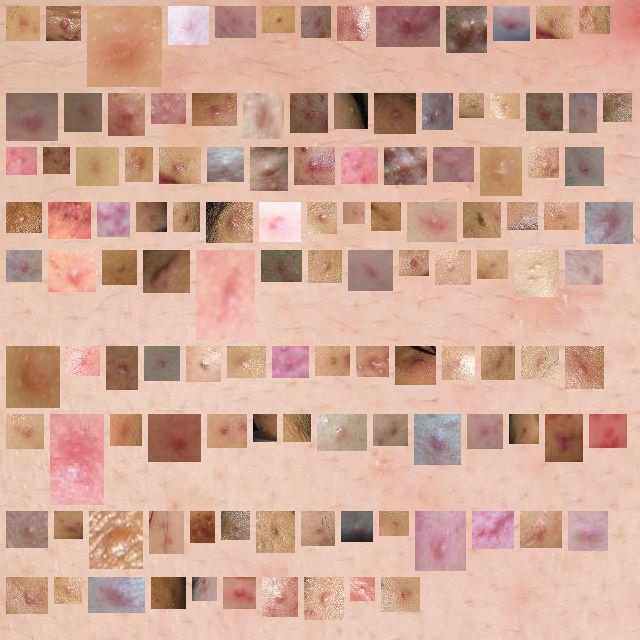papule: (95, 14, 154, 79), (204, 258, 247, 332), (58, 422, 96, 497), (14, 354, 52, 400), (97, 519, 135, 561), (423, 519, 458, 563), (384, 14, 432, 39), (156, 422, 193, 454), (14, 101, 50, 133), (422, 422, 453, 457), (522, 258, 551, 289), (488, 155, 514, 188), (151, 258, 182, 285), (593, 210, 625, 236), (56, 258, 88, 284), (96, 585, 137, 605), (415, 210, 449, 234), (454, 14, 479, 45), (214, 210, 245, 235), (251, 101, 276, 131), (356, 258, 385, 283), (325, 422, 359, 443), (553, 422, 575, 454), (382, 101, 408, 126), (312, 585, 336, 612), (267, 210, 293, 234), (84, 155, 111, 178), (573, 354, 596, 381), (258, 155, 280, 183), (264, 519, 287, 545), (392, 155, 419, 177), (576, 519, 600, 543), (176, 14, 201, 37), (403, 354, 428, 377), (480, 519, 506, 541), (116, 101, 137, 128), (56, 210, 83, 231), (302, 155, 327, 177), (167, 155, 193, 176), (14, 519, 40, 540), (528, 519, 554, 540), (14, 585, 40, 606), (573, 155, 596, 178), (298, 101, 320, 125), (157, 519, 176, 546), (72, 101, 94, 124), (200, 101, 229, 118), (270, 585, 290, 609), (441, 155, 466, 174), (534, 101, 555, 123), (114, 354, 130, 382), (349, 155, 370, 176), (471, 210, 493, 230), (389, 585, 412, 604), (215, 422, 239, 440), (573, 258, 595, 277), (14, 422, 36, 441), (223, 14, 248, 30), (269, 258, 294, 274), (501, 14, 522, 33), (215, 155, 236, 174), (597, 422, 619, 440), (443, 258, 463, 277), (152, 354, 172, 373), (194, 354, 213, 374), (475, 422, 495, 441), (529, 354, 551, 371), (235, 354, 258, 370), (54, 14, 73, 33), (110, 258, 129, 277), (342, 101, 360, 121), (544, 14, 565, 31), (14, 14, 32, 33), (309, 519, 327, 538), (280, 354, 301, 370), (489, 354, 507, 372), (345, 14, 362, 33), (105, 210, 122, 229), (14, 258, 34, 274), (430, 101, 445, 122), (316, 258, 334, 275), (450, 354, 467, 372), (381, 422, 400, 438), (159, 585, 178, 601), (14, 210, 34, 225), (577, 101, 589, 125), (159, 101, 178, 116), (231, 585, 248, 601), (323, 354, 342, 368), (118, 422, 134, 438), (364, 354, 381, 369), (74, 354, 92, 368), (349, 519, 365, 534), (133, 155, 145, 174), (552, 210, 571, 222), (536, 155, 551, 170), (309, 14, 323, 30), (315, 210, 329, 226), (144, 210, 159, 224), (517, 422, 531, 436), (485, 258, 500, 271), (270, 14, 287, 25), (379, 210, 393, 223), (587, 14, 602, 26), (14, 155, 29, 167), (515, 210, 530, 222), (611, 101, 624, 114), (229, 519, 242, 532), (62, 519, 75, 531), (181, 210, 192, 224), (291, 422, 303, 434), (198, 519, 207, 535), (498, 101, 512, 111), (407, 258, 421, 268), (62, 585, 74, 596), (387, 519, 401, 528), (51, 155, 62, 166), (261, 422, 269, 434), (467, 101, 476, 110), (200, 585, 209, 593), (358, 585, 367, 593), (351, 210, 357, 216)
